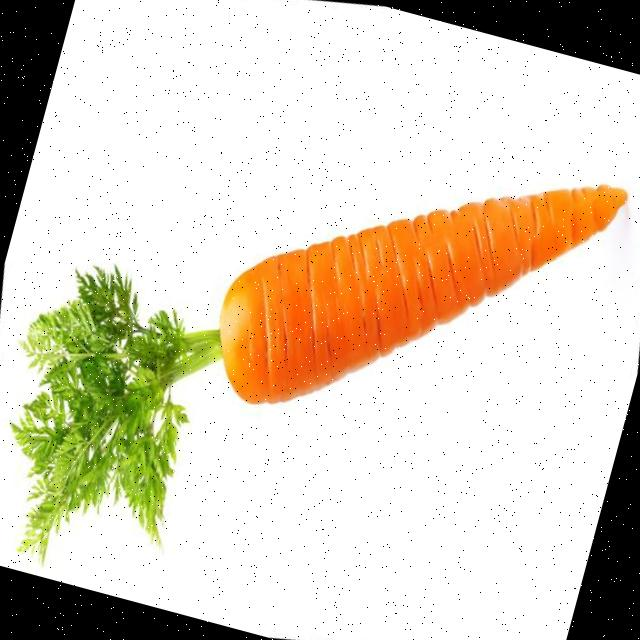carrot: (12, 185, 624, 558)
